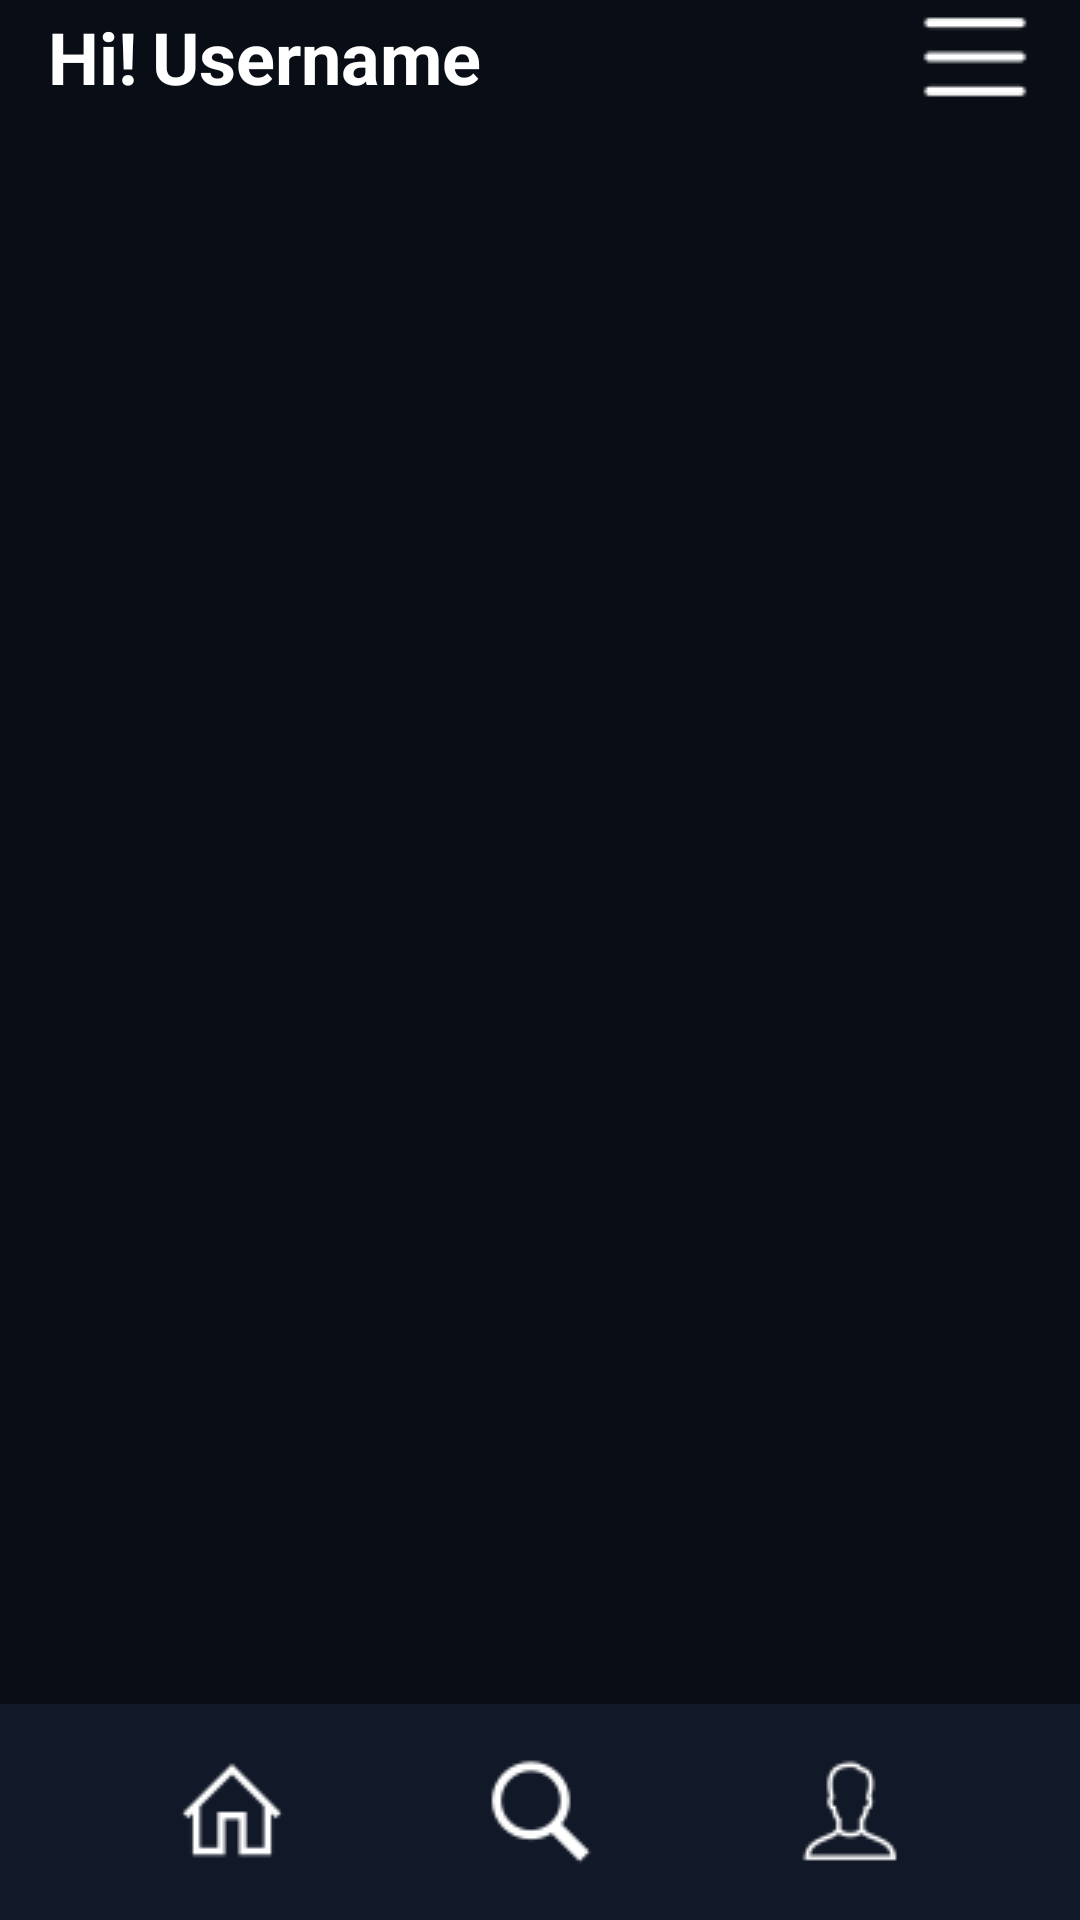

Named icons in this screenshot (1080px×1920px) and their bounding boxes, (x1, y1, x2, y2):
Account: (802, 1760, 897, 1861)
Home: (183, 1763, 281, 1857)
Menu: (923, 17, 1027, 97)
Search: (491, 1760, 591, 1863)
